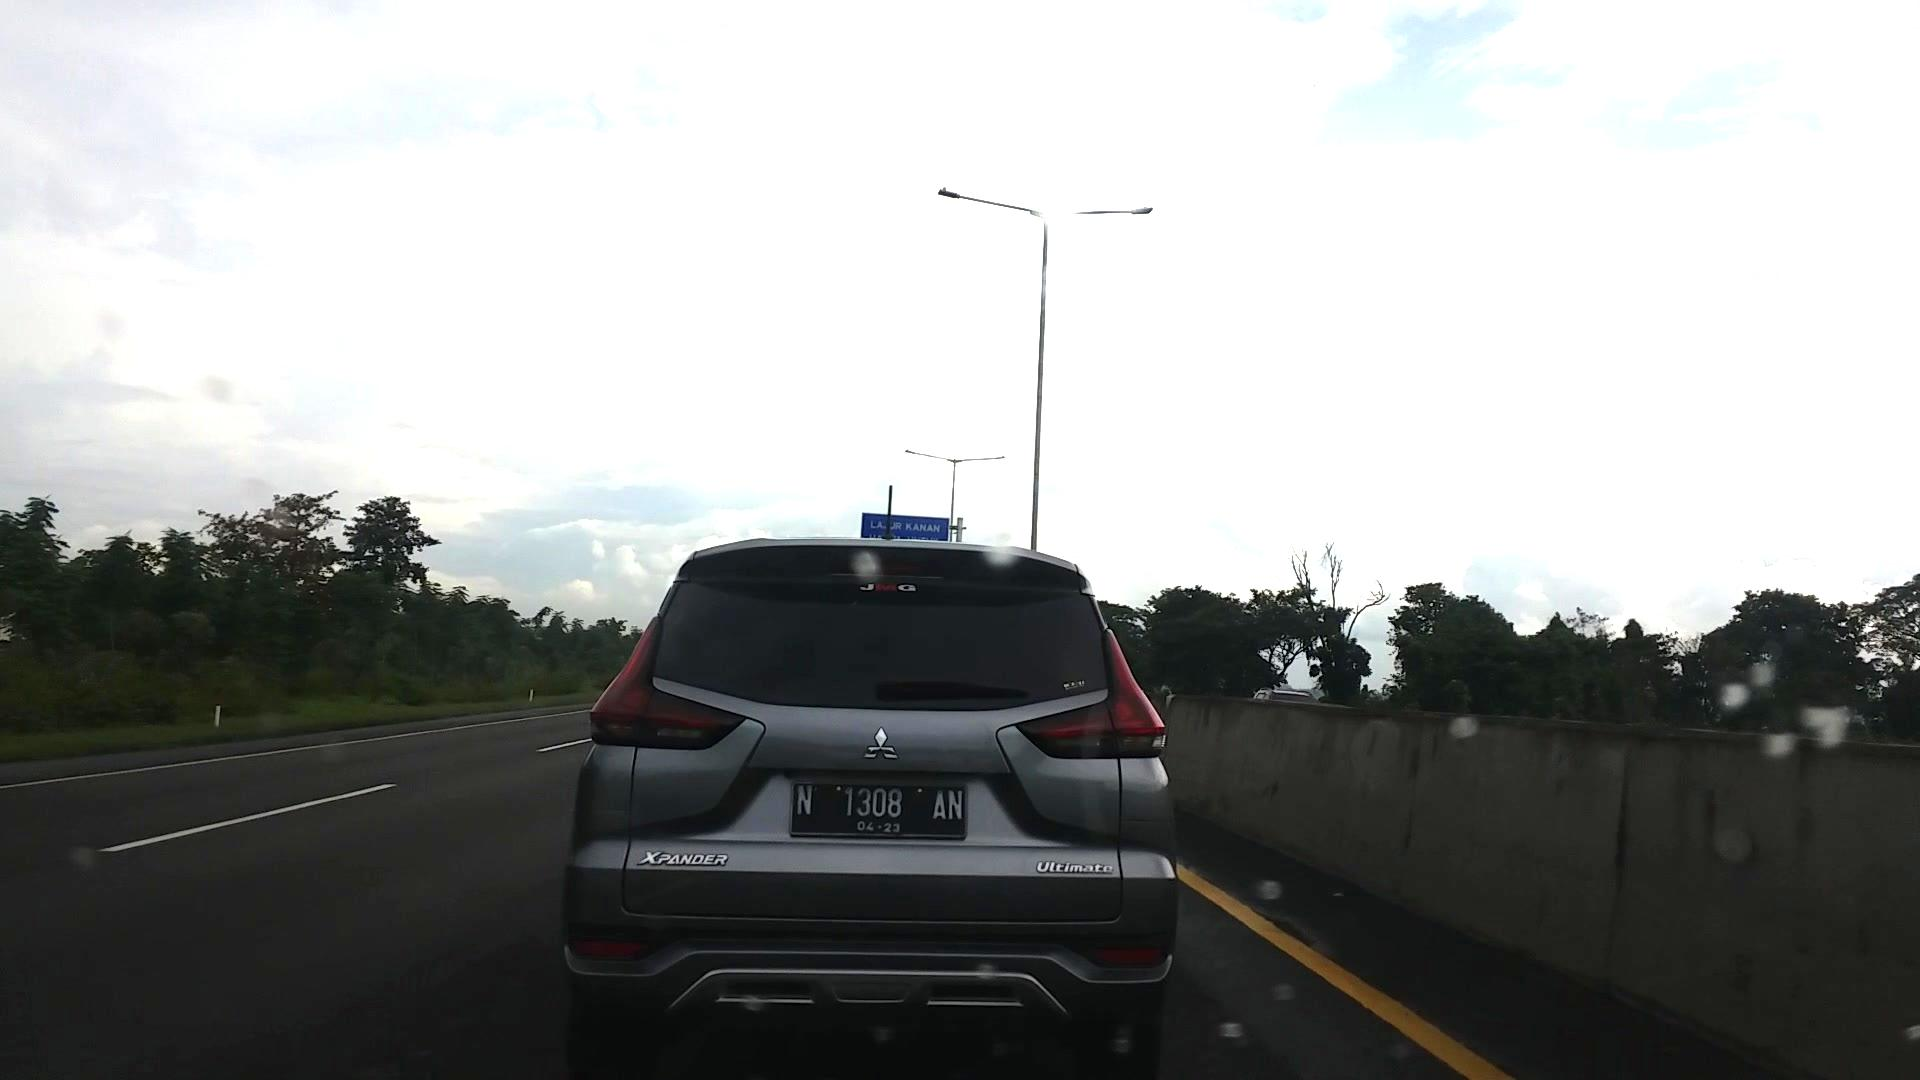plate_positive: (789, 782, 967, 840)
